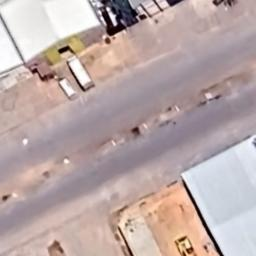truck: (66, 55, 96, 91), (58, 78, 76, 98)
